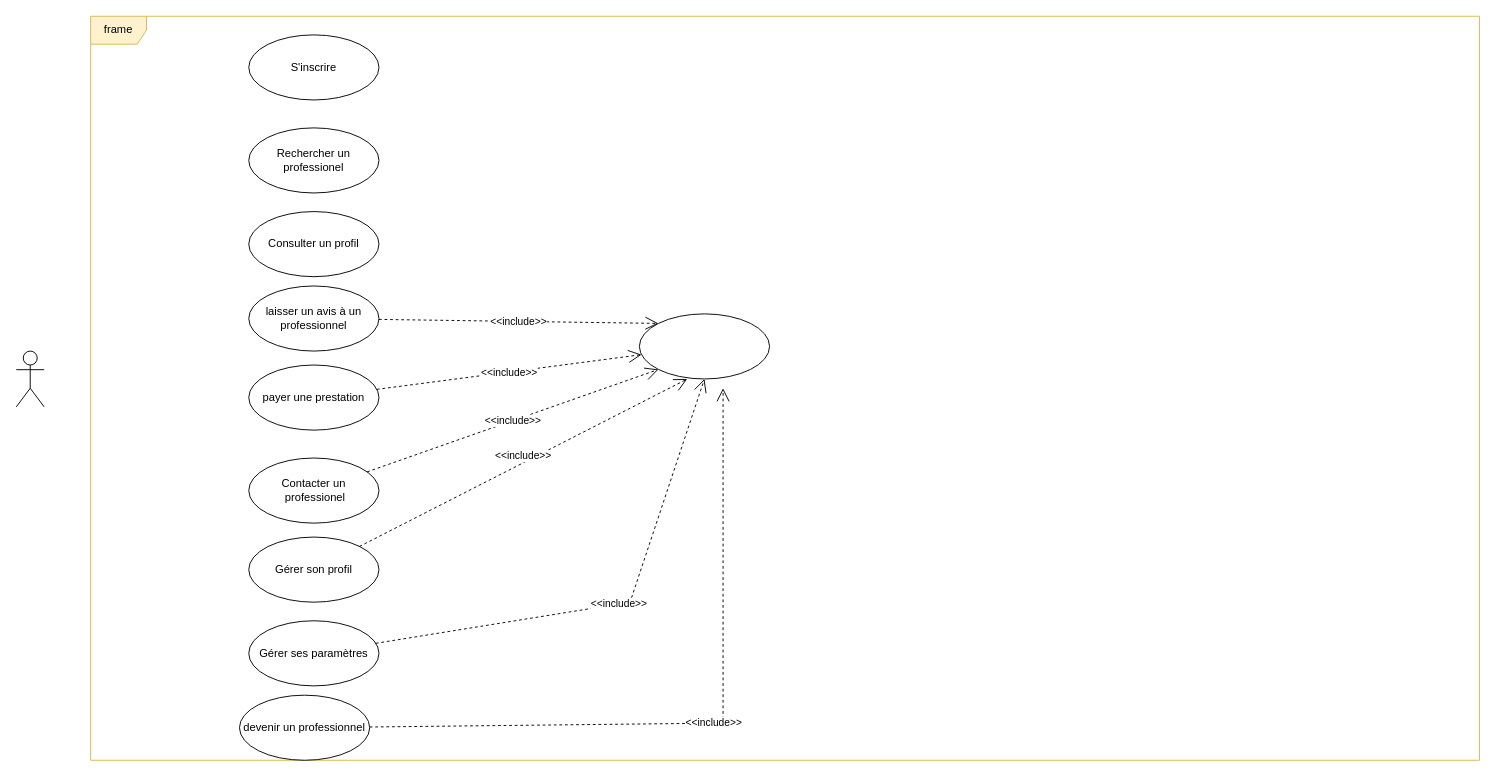
Image size: 1496x777. Some labels were removed from this diagram. Each missing label, with the box of its shape:
Client: (15, 350, 44, 407)
se connecter: (638, 313, 770, 379)
